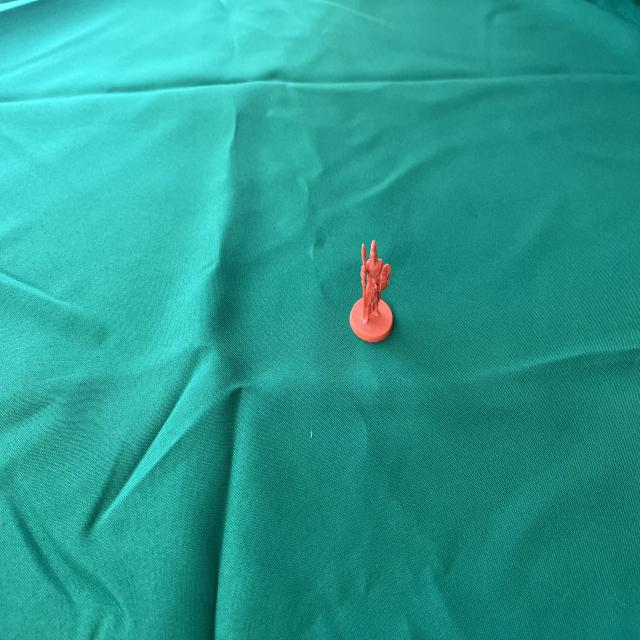amon_follower: (350, 240, 392, 343)
